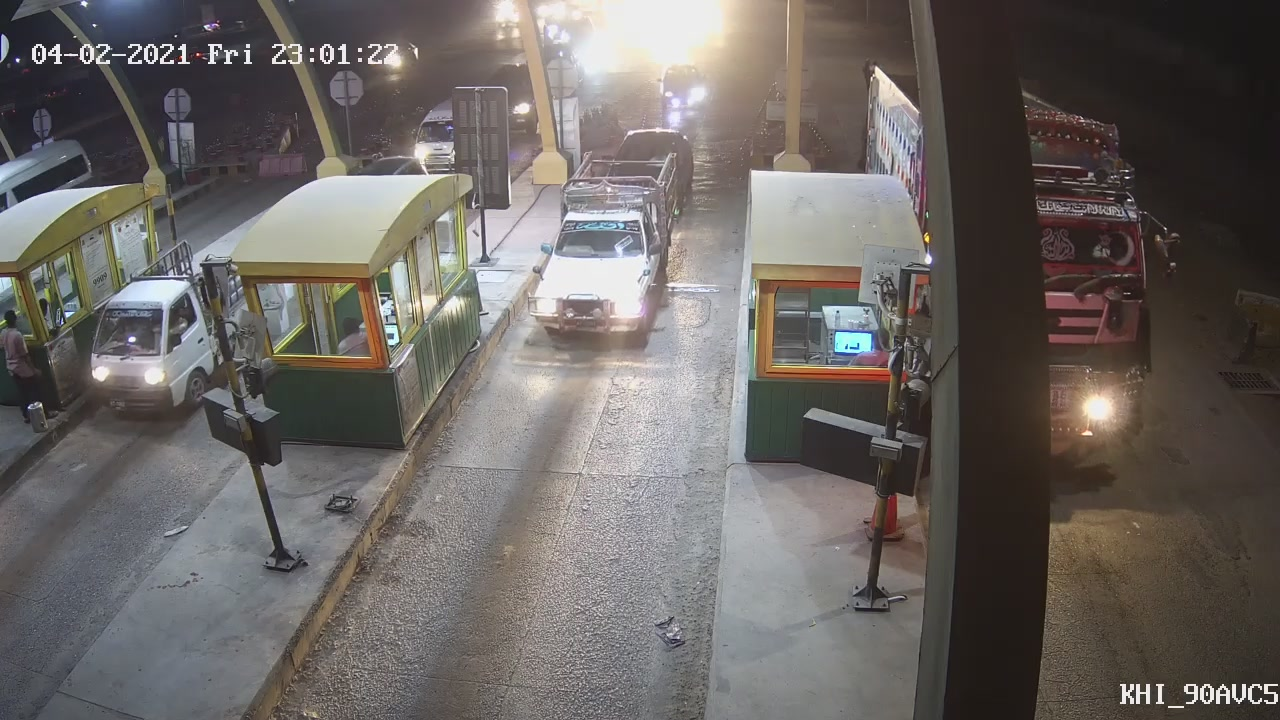F2: (528, 146, 680, 339)
